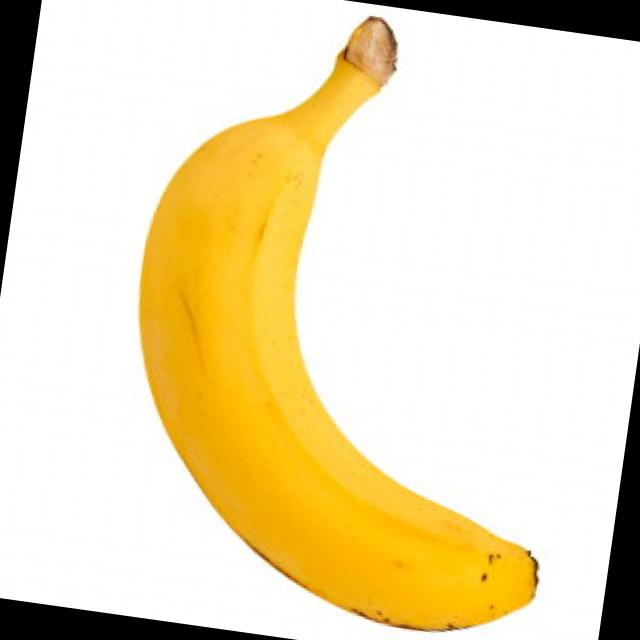banana: (92, 70, 609, 640)
